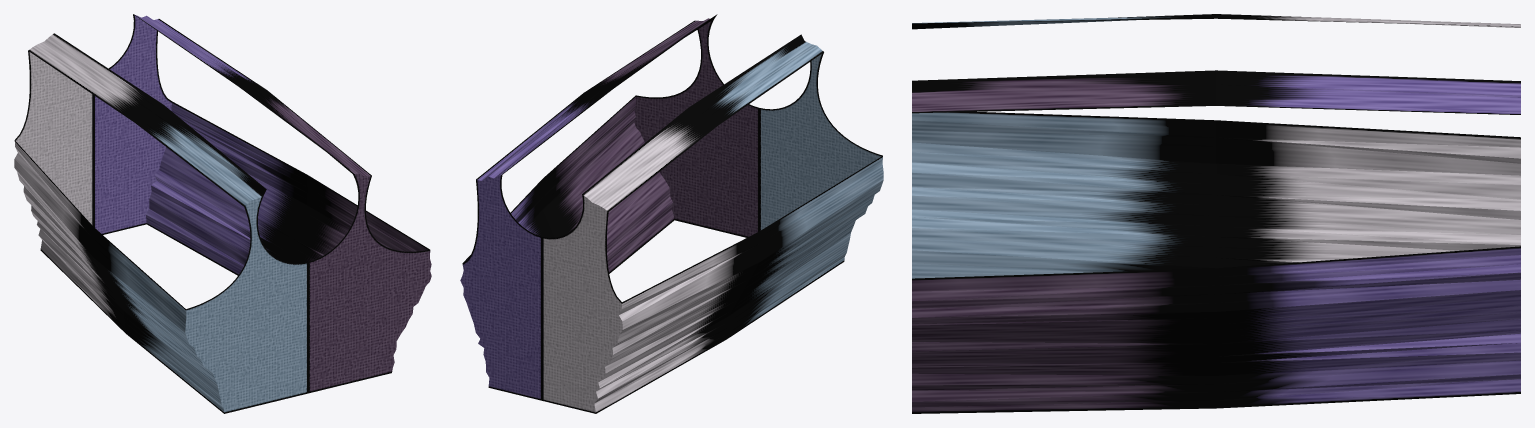
File: tank_knit4_s40_noarm_boxmesh.obj
3 views of the same model, side by side, from view 1: azimuth 30°, elevation 25°; view 2: azimuth 150°, elevation 25°; view 3: azimuth 270°, elevation 25° (orthographic). The views are drawn at different scales.
Size of the model in its own units: 36.47 by 31.16 by 55.
Materials: 1 (1 with a texture image).
